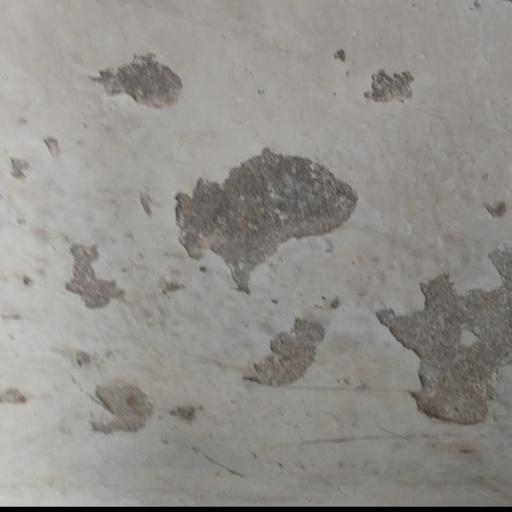peeling: (140, 122, 387, 292), (359, 239, 512, 439), (217, 282, 353, 418), (70, 28, 218, 136), (311, 16, 445, 120), (48, 232, 139, 324), (76, 369, 155, 449), (0, 356, 47, 422), (160, 388, 204, 429)
